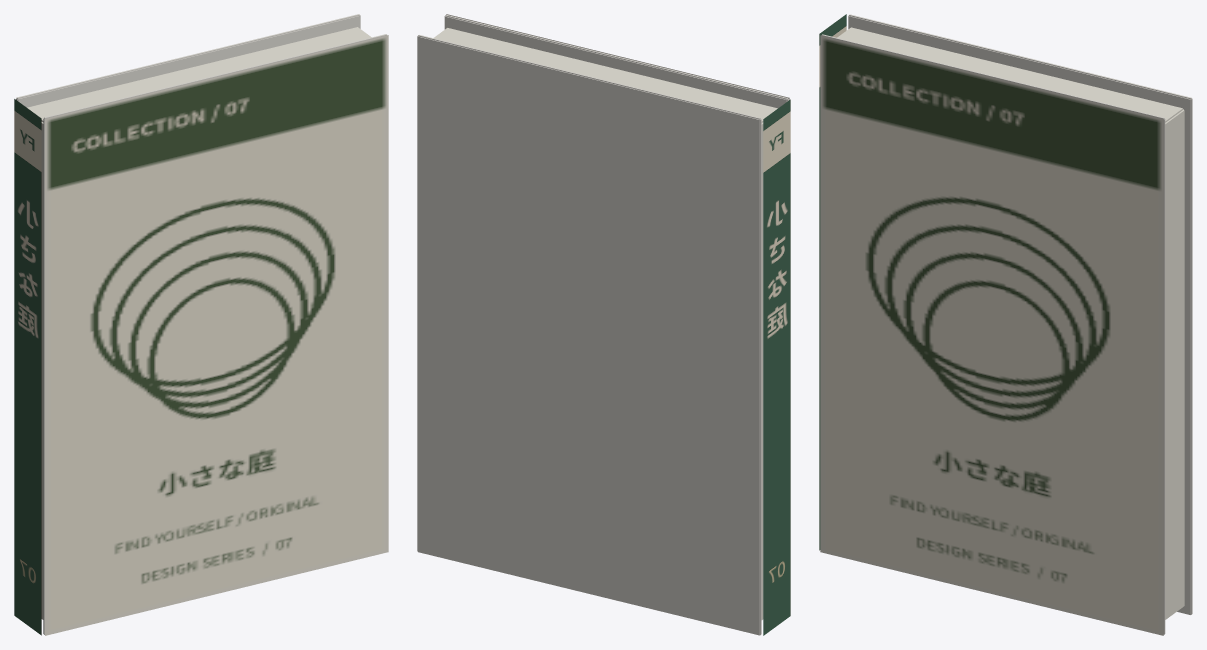
File: sku_v23_book_7.glb
3 views of the same model, side by side, from view 1: azimuth 30°, elevation 25°; view 2: azimuth 150°, elevation 25°; view 3: azimuth 330°, elevation 25° (orthographic).
Parts seen in each view (by area): view 1: sku_v23_book_7_V23_original_editorial, sku_v23_book_7_V23_printed_genre_spines, sku_v23_book_7_Warm_white_coating, sku_v23_book_7_Paper_page_edges; view 2: sku_v23_book_7_Warm_white_coating, sku_v23_book_7_V23_printed_genre_spines, sku_v23_book_7_Paper_page_edges; view 3: sku_v23_book_7_V23_original_editorial, sku_v23_book_7_Paper_page_edges, sku_v23_book_7_Warm_white_coating, sku_v23_book_7_V23_printed_genre_spines.
Part boxes in pixels (<box>): sku_v23_book_7_V23_original_editorial: <box>45,35,388,635</box>; sku_v23_book_7_V23_printed_genre_spines: <box>14,99,41,635</box>; sku_v23_book_7_Warm_white_coating: <box>16,14,387,634</box>; sku_v23_book_7_Paper_page_edges: <box>27,27,371,619</box>; sku_v23_book_7_Warm_white_coating: <box>417,15,788,635</box>; sku_v23_book_7_V23_printed_genre_spines: <box>763,99,790,635</box>; sku_v23_book_7_Paper_page_edges: <box>433,28,777,619</box>; sku_v23_book_7_V23_original_editorial: <box>820,35,1163,635</box>; sku_v23_book_7_Paper_page_edges: <box>837,27,1184,619</box>; sku_v23_book_7_Warm_white_coating: <box>821,14,1192,634</box>; sku_v23_book_7_V23_printed_genre_spines: <box>819,14,846,550</box>.
Size of the model in its own units: 0.161 by 0.23 by 0.0237.
4 materials, 2 textured.
